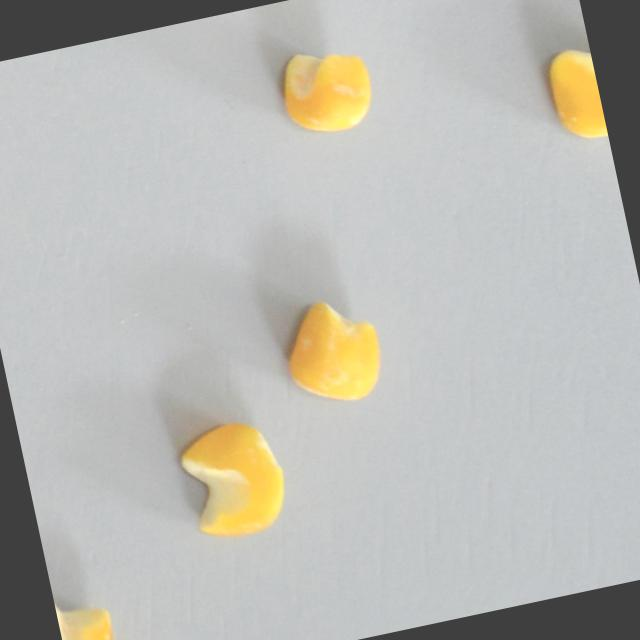no_canjicado: (174, 414, 294, 543), (275, 290, 390, 412), (274, 38, 379, 141), (541, 38, 608, 146), (50, 575, 117, 640)
